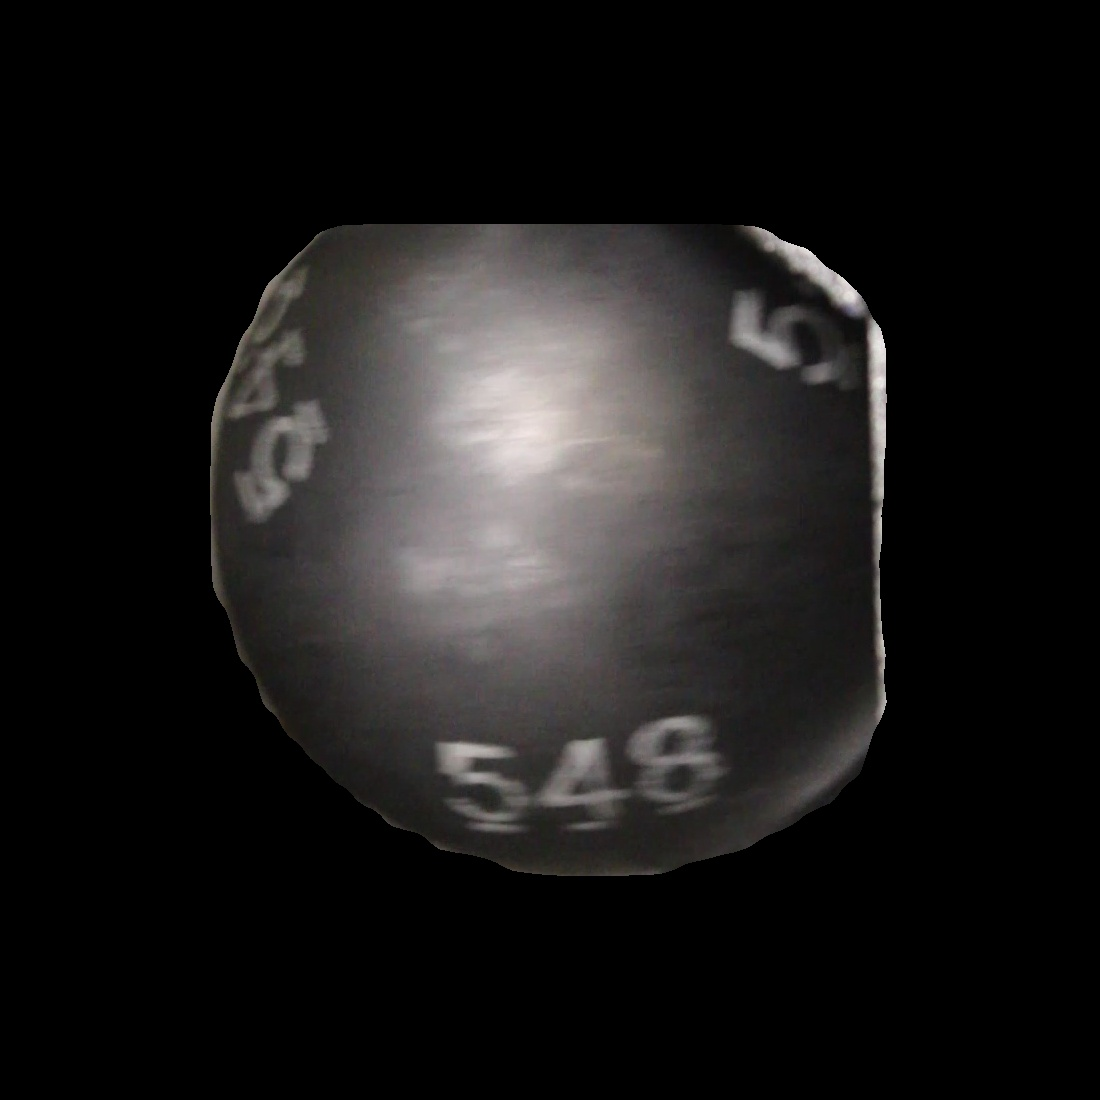digits: (434, 718, 723, 840)
